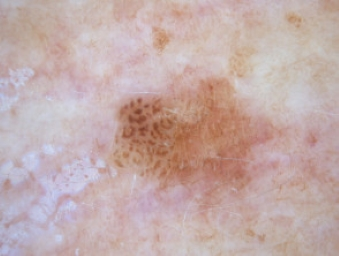seborrheic keratosis: (93, 67, 276, 202)
